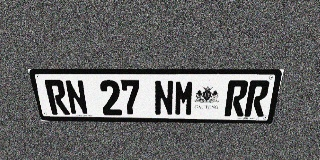2: (99, 80, 122, 115)
7: (119, 80, 141, 115)
M: (174, 80, 195, 116)
N: (64, 80, 89, 115), (154, 80, 174, 116)
R: (244, 80, 271, 117), (44, 80, 70, 115), (224, 80, 249, 116)
